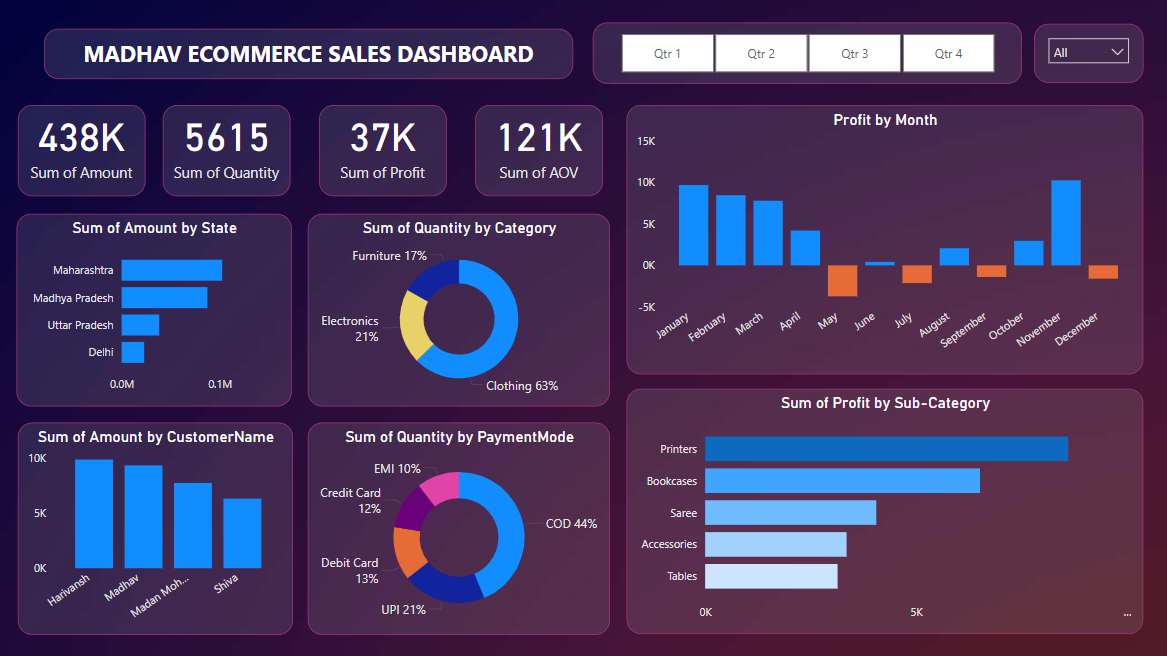

The dashboard page shown, as its layout file describes it:
{"tool":"powerbi","page":{"name":"Page 1","canvas":[1280,720],"ordinal":0},"visuals":[{"type":"textbox","box":[48.8,31.2,580,55],"z":0},{"type":"columnChart","title":"Profit by Month","fields":{"Y":["Details.Profit"],"Category":["Orders.Order Date.Variation.Date Hierarchy.Month"]},"box":[687.5,115,566.2,295],"z":1000},{"type":"barChart","fields":{"Y":["Details.Profit"],"Category":["Details.Sub-Category"]},"box":[687.5,426.2,566.2,268.8],"z":2000},{"type":"donutChart","fields":{"Category":["Details.Category"],"Y":["Details.Quantity"]},"box":[338.8,233.8,331.2,211.2],"z":3000},{"type":"donutChart","fields":{"Category":["Details.PaymentMode"],"Y":["Details.Quantity"]},"box":[338.8,462.5,331.2,232.5],"z":4000},{"type":"card","fields":{"Values":["Details.Amount"]},"box":[20,115,140,100],"z":5000},{"type":"card","fields":{"Values":["Details.Quantity"]},"box":[180,115,140,100],"z":6000},{"type":"card","fields":{"Values":["Details.Profit"]},"box":[350,115,140,100],"z":7000},{"type":"card","fields":{"Values":["Details.AOV"]},"box":[522.5,115,140,100],"z":8000},{"type":"barChart","fields":{"Y":["Details.Amount"],"Category":["Orders.State"]},"box":[18.8,233.8,301.2,211.2],"z":9000},{"type":"columnChart","fields":{"Category":["Orders.CustomerName"],"Y":["Details.Amount"]},"box":[20,462.5,301.2,232.5],"z":10000},{"type":"slicer","fields":{"Values":["Orders.Order Date.Variation.Date Hierarchy.Quarter"]},"box":[650,25,470,67.5],"z":11000},{"type":"slicer","fields":{"Values":["Orders.State"]},"box":[1133.8,26.2,120,65],"z":11001}]}

Visuals, with their boxes in screenshot pixels (x1, y1, x2, y2), scaled from the page's 1280x720 canvas onto the 1167x656 screenshot:
textbox: x1=44, y1=28, x2=573, y2=79
"Profit by Month" columnChart: x1=627, y1=105, x2=1143, y2=374
barChart - Details.Profit x Details.Sub-Category: x1=627, y1=388, x2=1143, y2=633
donutChart - Details.Category x Details.Quantity: x1=309, y1=213, x2=611, y2=405
donutChart - Details.PaymentMode x Details.Quantity: x1=309, y1=421, x2=611, y2=633
card - Details.Amount: x1=18, y1=105, x2=146, y2=196
card - Details.Quantity: x1=164, y1=105, x2=292, y2=196
card - Details.Profit: x1=319, y1=105, x2=447, y2=196
card - Details.AOV: x1=476, y1=105, x2=604, y2=196
barChart - Details.Amount x Orders.State: x1=17, y1=213, x2=292, y2=405
columnChart - Orders.CustomerName x Details.Amount: x1=18, y1=421, x2=293, y2=633
slicer - Orders.Order Date.Variation.Date Hierarchy.Quarter: x1=593, y1=23, x2=1021, y2=84
slicer - Orders.State: x1=1034, y1=24, x2=1143, y2=83
